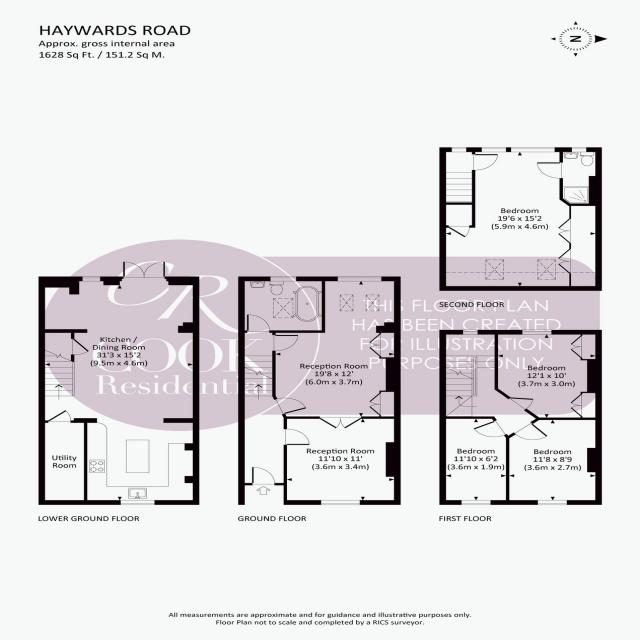DOOR: (512, 421, 549, 441), (472, 419, 507, 438), (274, 397, 307, 415), (471, 153, 499, 171), (283, 428, 311, 446), (536, 162, 563, 179), (272, 334, 299, 351), (246, 314, 270, 333), (507, 397, 534, 411), (47, 409, 72, 423), (270, 276, 297, 282)
DOUBLE DOOR: (122, 261, 166, 279), (319, 416, 362, 429)
ROOM: (438, 147, 603, 292), (272, 276, 401, 429), (283, 416, 401, 505), (493, 329, 603, 421), (505, 417, 602, 505), (439, 416, 509, 505)
WINDOW: (337, 276, 382, 282), (320, 500, 361, 506), (511, 147, 556, 152), (460, 499, 491, 505), (521, 329, 552, 335), (120, 500, 155, 505), (537, 500, 568, 505), (481, 147, 507, 152), (82, 276, 101, 282), (462, 329, 478, 335), (451, 147, 467, 152), (571, 147, 587, 152)
